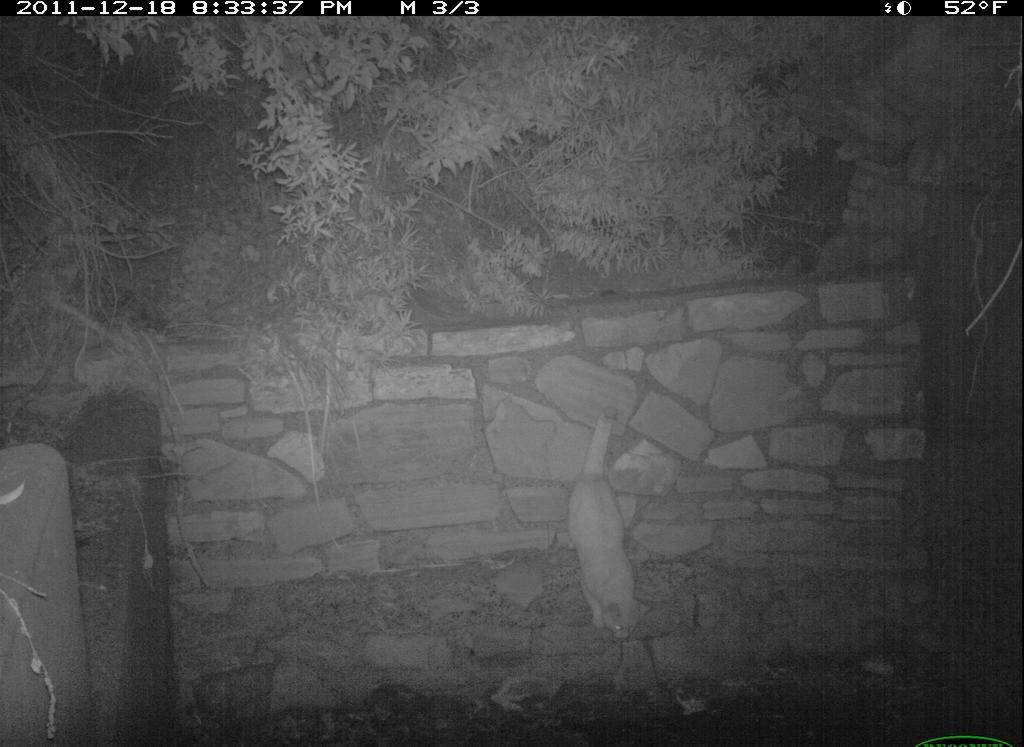cat: (564, 405, 662, 651)
